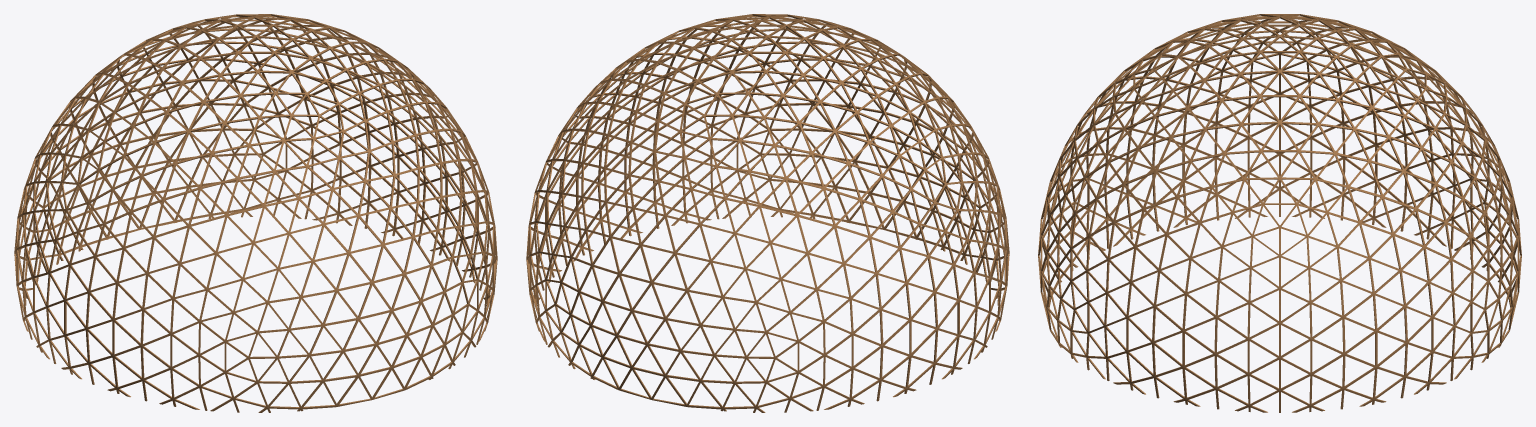
File: mesh_com_timberlatis.glb
3 renders of one model, left to right at view 1: azimuth 30°, elevation 25°; view 2: azimuth 150°, elevation 25°; view 3: azimuth 270°, elevation 25°, orthographic.
Visible parts, largest first — view 1: mesh_com_timberlatis; view 2: mesh_com_timberlatis; view 3: mesh_com_timberlatis.
Part boxes in pixels (box(x1,y1,x2,y2)): mesh_com_timberlatis: box(14, 14, 497, 412); mesh_com_timberlatis: box(526, 14, 1009, 412); mesh_com_timberlatis: box(1038, 14, 1521, 412).
Size of the model in its own units: 57.25 by 36.41 by 57.25.
Materials: 1 (1 with a texture image).
